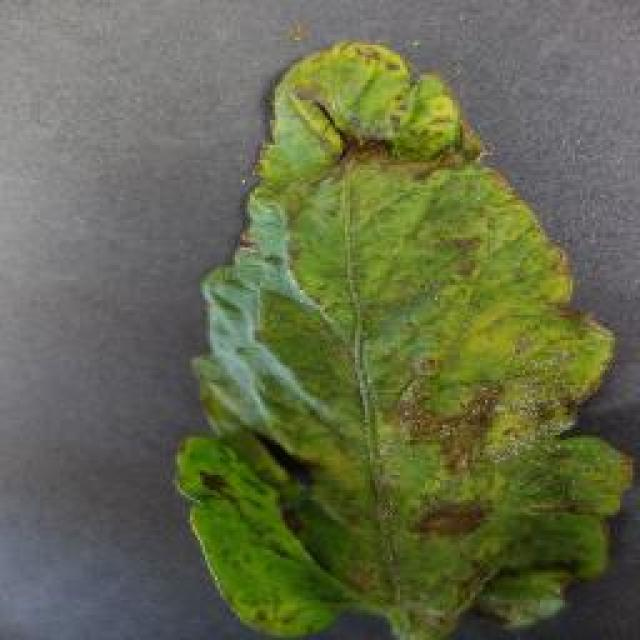Tomato___Bacterial_spot: (167, 35, 638, 638)
